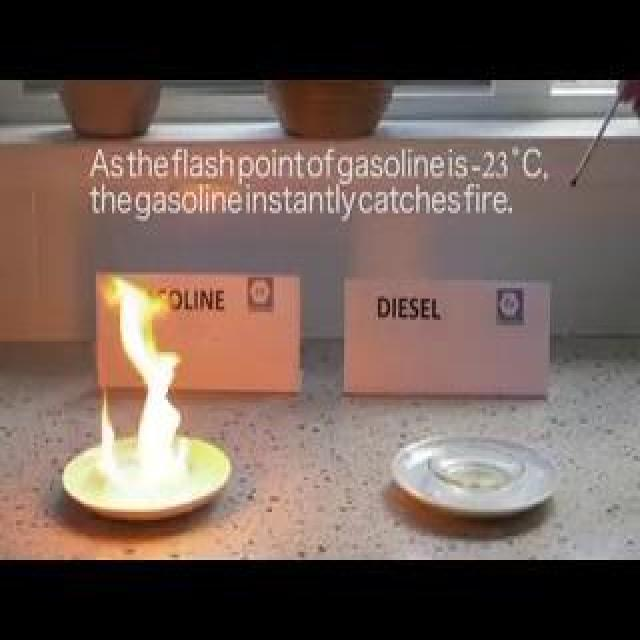Fire: (116, 170, 139, 418)
